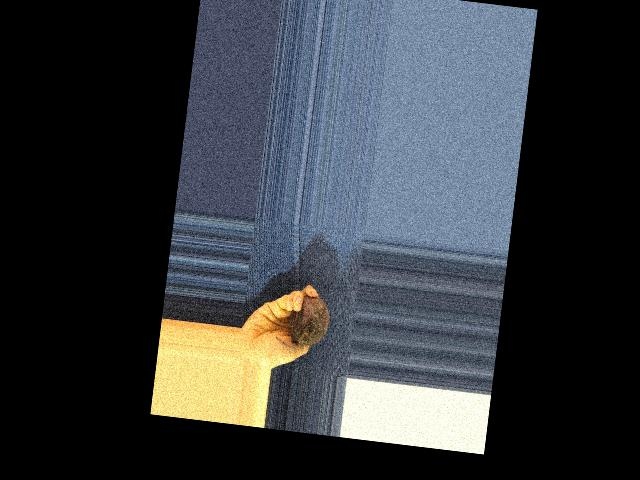beet: (273, 292, 331, 352)
